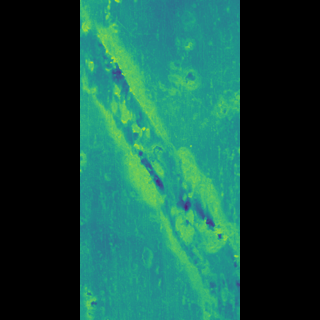Loch: (117, 13, 200, 318)
